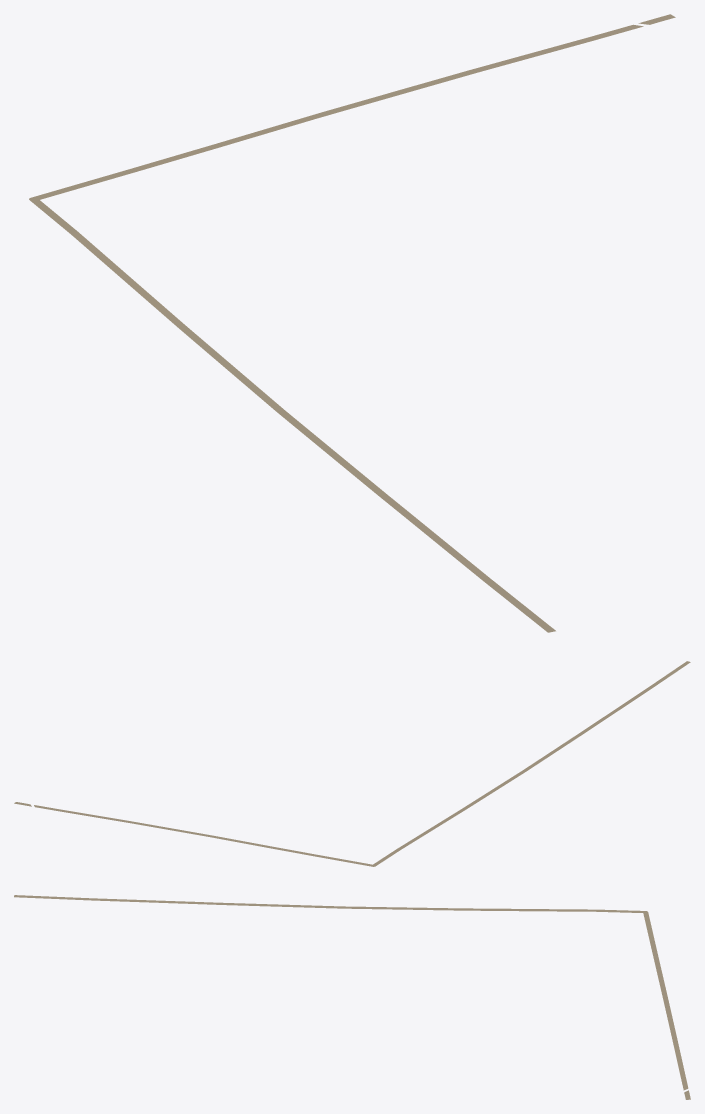
The model's file is farm_13_20_track.glb.
The picture shows the model from 3 angles, top to bottom: view 1: azimuth 30°, elevation 25°; view 2: azimuth 150°, elevation 25°; view 3: azimuth 270°, elevation 25°; orthographic projection. The views are drawn at different scales.
Parts seen in each view (by area): view 1: geometry_0; view 2: geometry_0; view 3: geometry_0.
Part boxes in pixels (x1,y1,x2,y2): geometry_0: [29, 14, 675, 632]; geometry_0: [14, 661, 690, 866]; geometry_0: [14, 895, 690, 1099].
Size of the model in its own units: 299 by 4.75 by 432.
